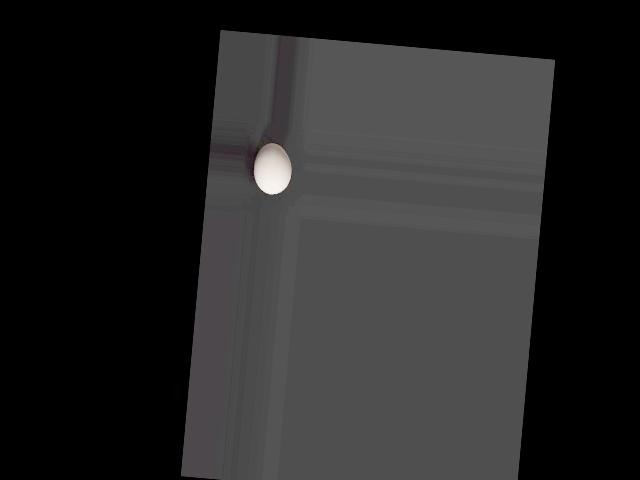egg: (251, 142, 293, 196)
